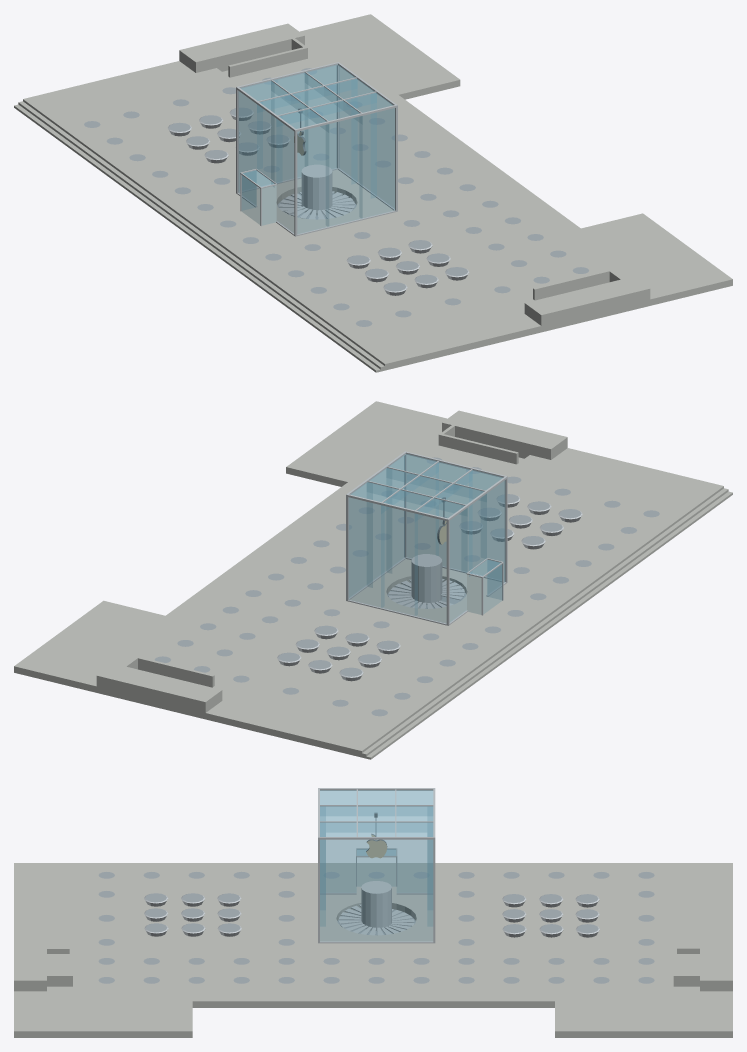
The model's file is nyc-apple-fifth-avenue.glb.
3 views of the same model, one above another, from view 1: azimuth 30°, elevation 25°; view 2: azimuth 150°, elevation 25°; view 3: azimuth 270°, elevation 25° (orthographic).
Visible parts, largest first — view 1: Apple Fifth Avenue; view 2: Apple Fifth Avenue; view 3: Apple Fifth Avenue.
Boxes of the visible parts, left/top/right/bottom form: Apple Fifth Avenue: left=14, top=14, right=732, bottom=372; Apple Fifth Avenue: left=14, top=401, right=732, bottom=759; Apple Fifth Avenue: left=14, top=788, right=732, bottom=1037.
Size of the model in its own units: 34.56 by 10.44 by 60.75.
